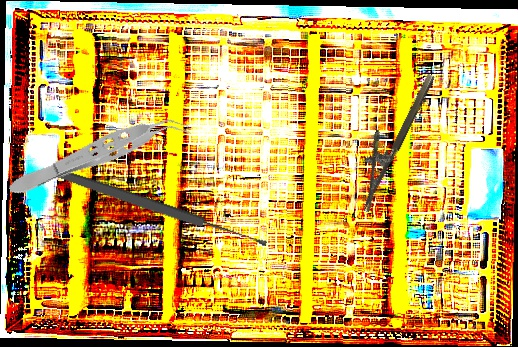Needle Holder: (341, 64, 437, 213)
Surgical Spoon: (49, 164, 269, 252)
Tissue Forceps: (4, 104, 192, 205)
